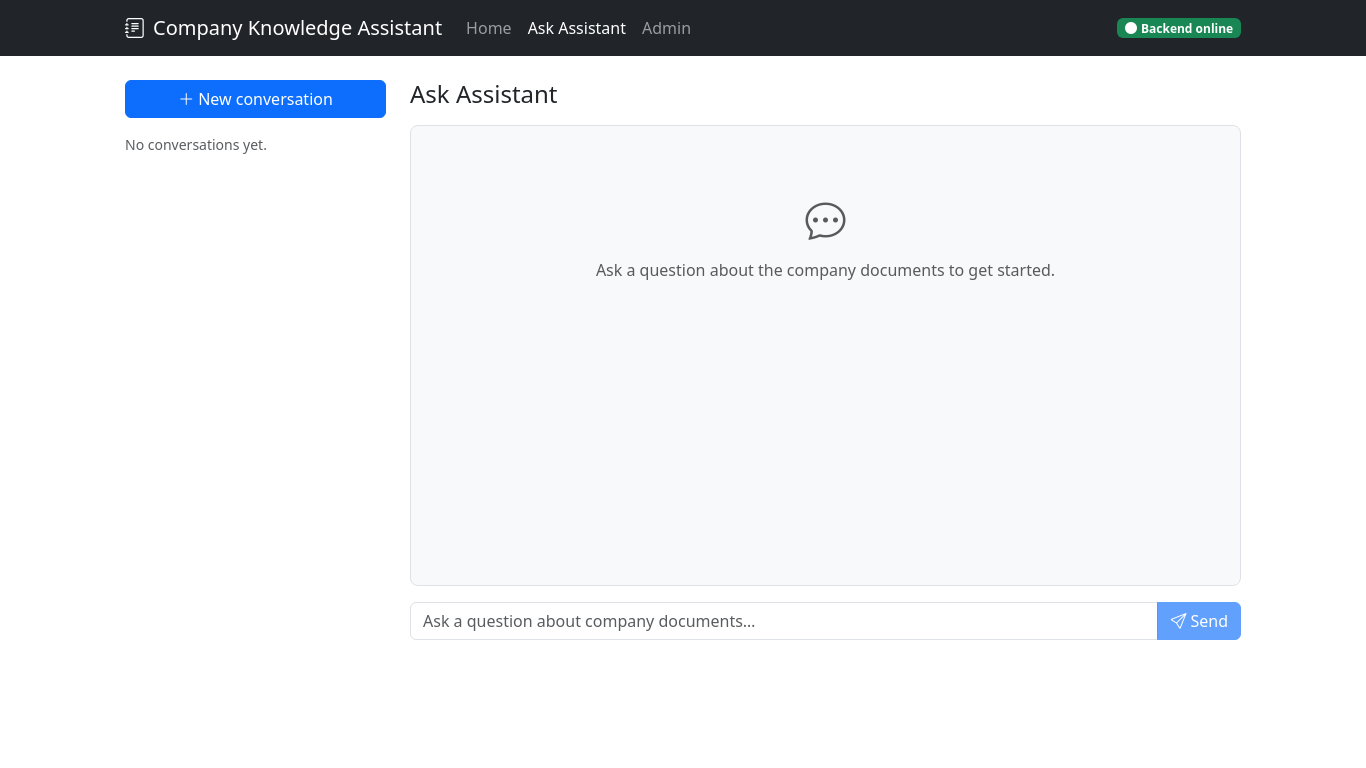
Test case: Chat UI › sends a question and shows the answer with structured sources
This screenshot has width=1366, height=768.
Type "How many leave days?" into the field labelled "question" at [784, 621], box [410, 602, 1158, 640]
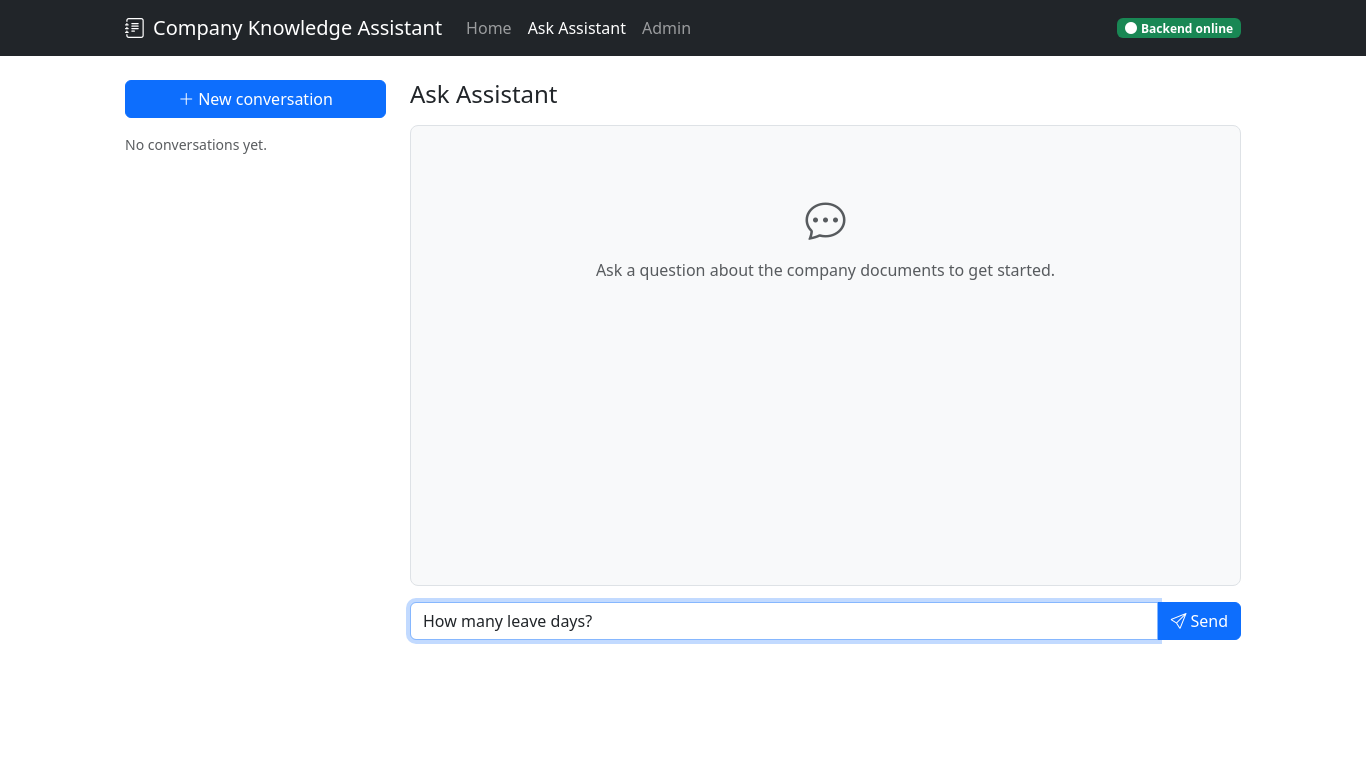
Click the button "Send" at [1199, 621], box [1158, 602, 1241, 640]
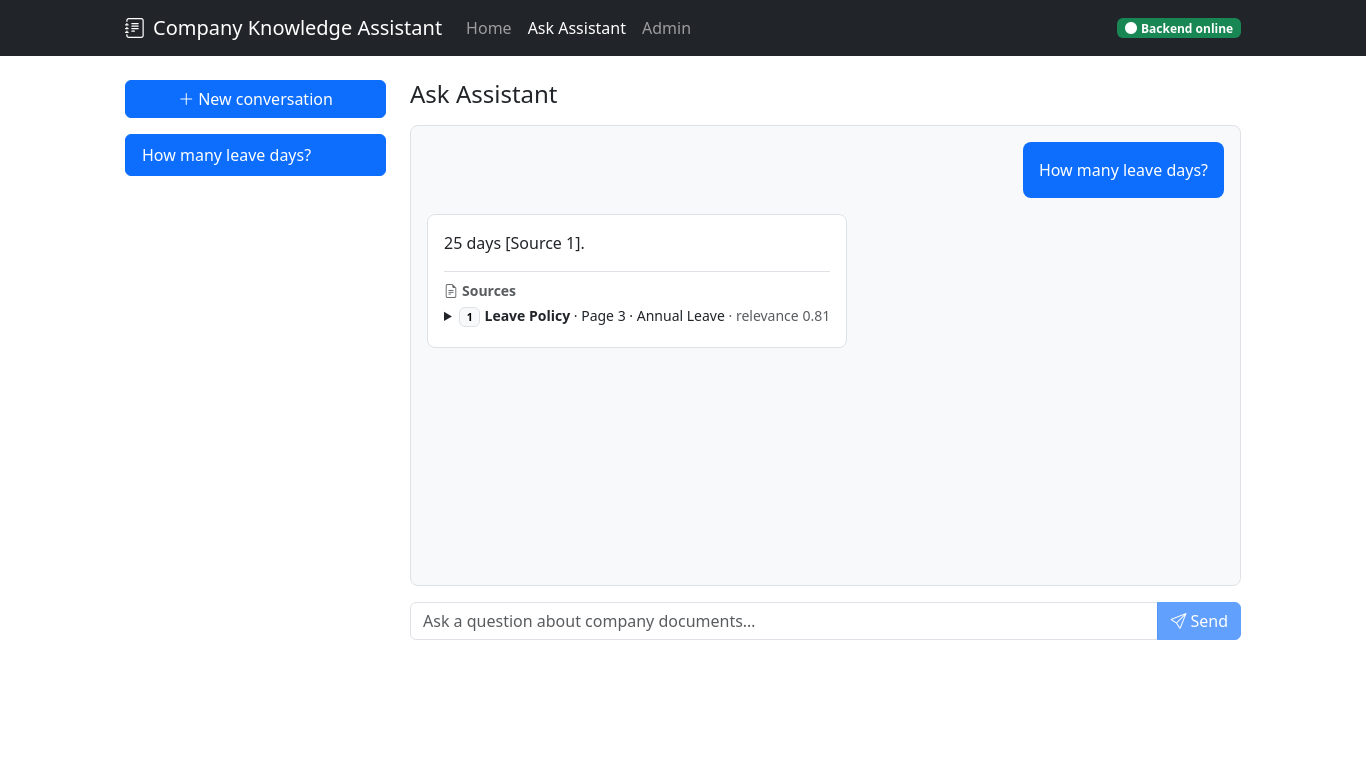
Now the text "25 days [Source 1]." is shown, box [444, 232, 585, 254]
Now the element with test id "message-user" reads "How many leave days?", box [1039, 159, 1208, 181]
Now the list item with test id "source" shows "Leave Policy", box [484, 306, 570, 325]
